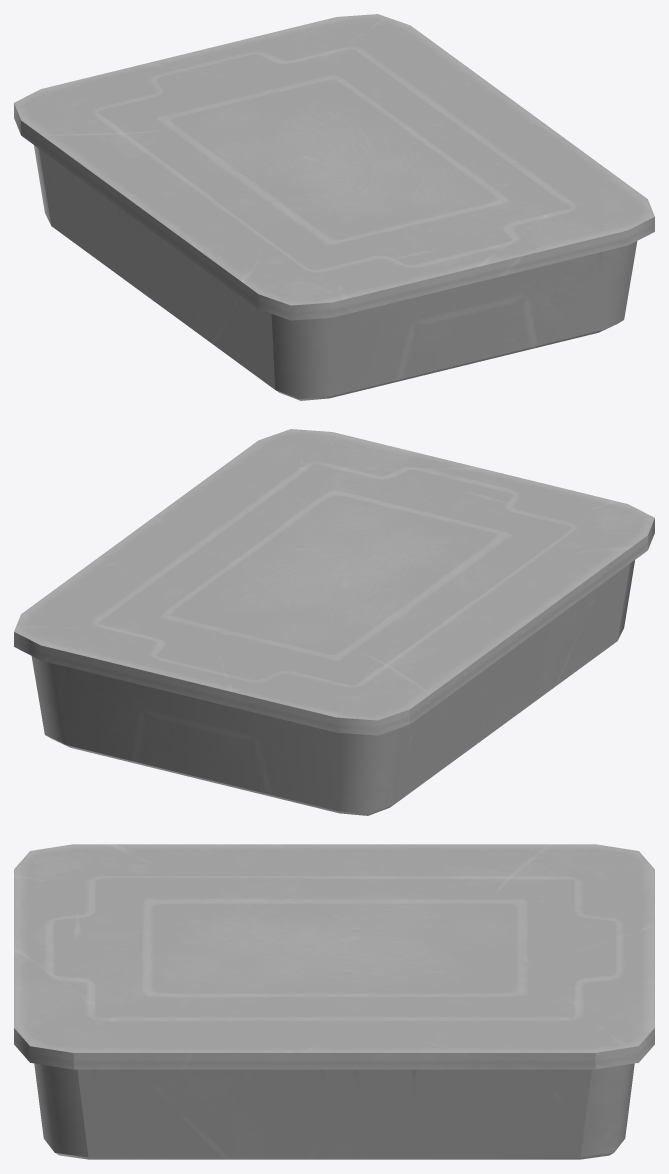
The model's file is GarageBoxSmall.FBX.
The picture shows the model from 3 angles, top to bottom: view 1: azimuth 30°, elevation 25°; view 2: azimuth 150°, elevation 25°; view 3: azimuth 270°, elevation 25°; orthographic projection. The views are drawn at different scales.
Visible parts, largest first — view 1: GarageBoxSmall; view 2: GarageBoxSmall; view 3: GarageBoxSmall.
Part boxes in pixels (box(x1,y1,x2,y2)): GarageBoxSmall: box(14, 14, 654, 400); GarageBoxSmall: box(14, 429, 654, 815); GarageBoxSmall: box(14, 844, 654, 1159).
Bounding box in the file's own units: 37.79 × 10.28 × 49.01.
